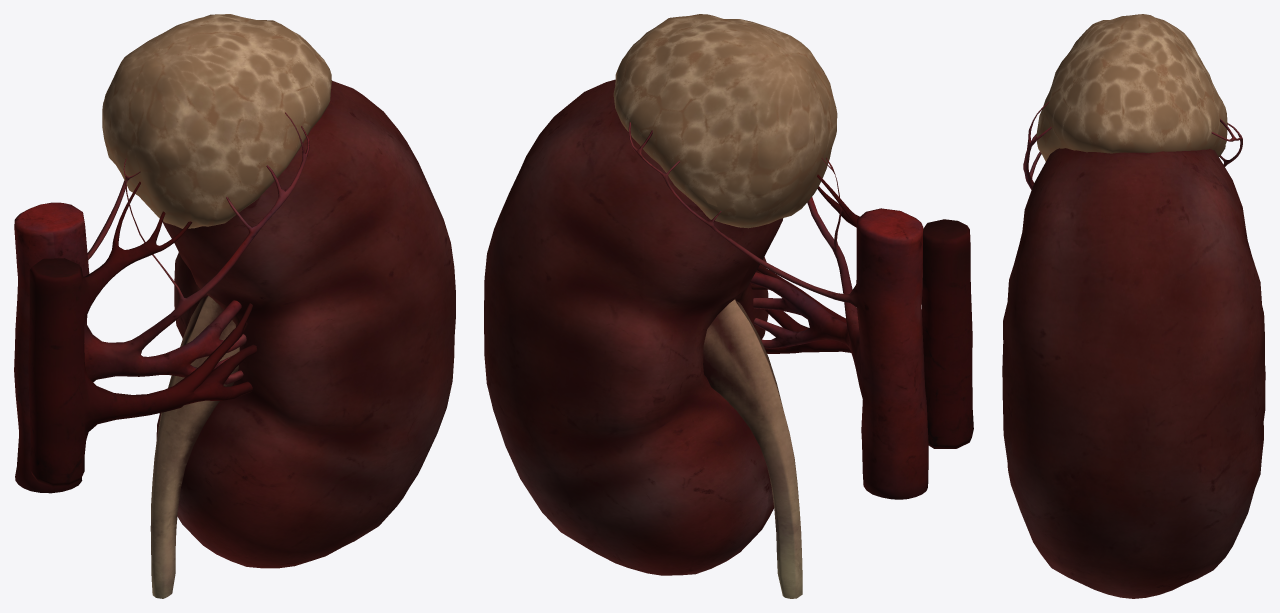
3 renders of one model, left to right at view 1: azimuth 30°, elevation 25°; view 2: azimuth 150°, elevation 25°; view 3: azimuth 270°, elevation 25°, orthographic. The views are drawn at different scales.
Parts seen in each view (by area): view 1: Kidney_OBJ:textureEditorIsolateSelectSetKidneyAll_L2_M_Kidne; view 2: Kidney_OBJ:textureEditorIsolateSelectSetKidneyAll_L2_M_Kidne; view 3: Kidney_OBJ:textureEditorIsolateSelectSetKidneyAll_L2_M_Kidne.
Part boxes in pixels (<box>): Kidney_OBJ:textureEditorIsolateSelectSetKidneyAll_L2_M_Kidne: <box>14,14,455,598</box>; Kidney_OBJ:textureEditorIsolateSelectSetKidneyAll_L2_M_Kidne: <box>484,14,973,598</box>; Kidney_OBJ:textureEditorIsolateSelectSetKidneyAll_L2_M_Kidne: <box>1002,14,1265,598</box>.
Bounding box in the file's own units: 0.0211 × 0.026 × 0.0116.
1 material, 1 textured.
